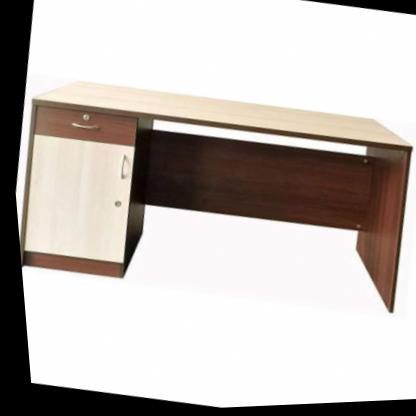Table: (4, 45, 416, 352)
